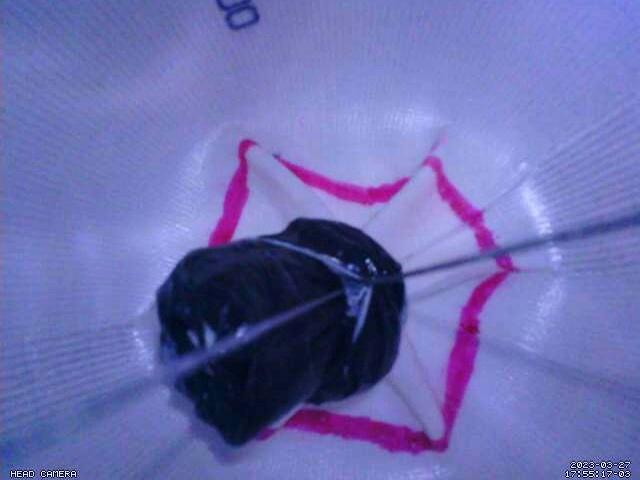red-circle: (208, 137, 519, 457)
